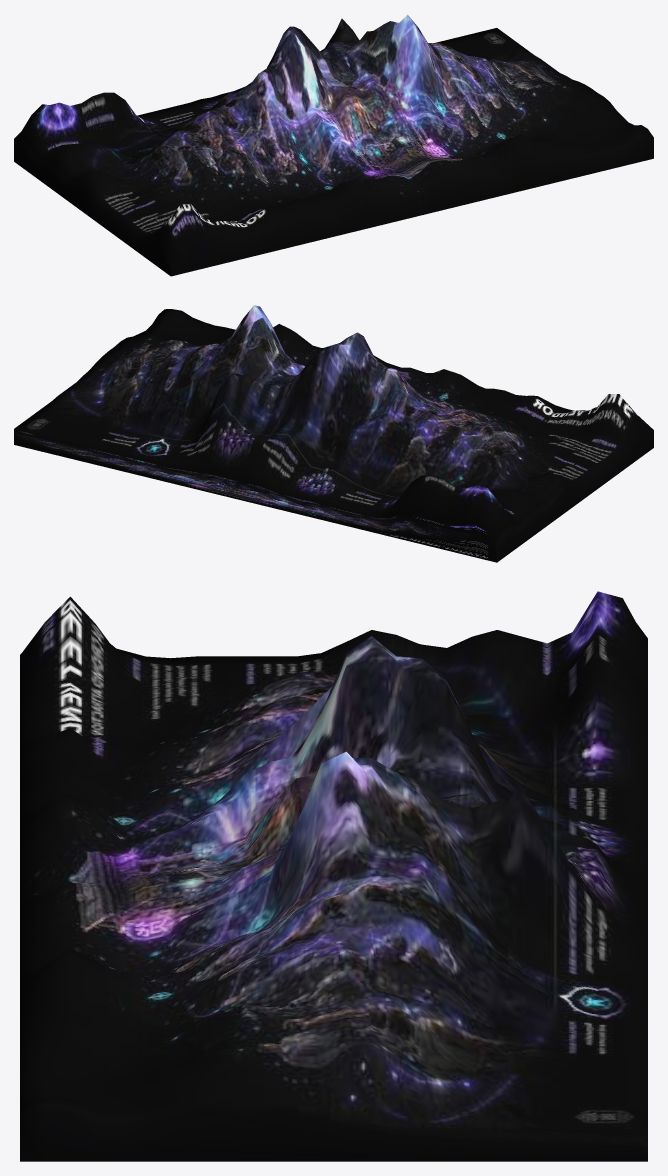
Rendered from CAREER_01_VFX_04_Crowd.glb.
3 views of the same model, one above another, from view 1: azimuth 30°, elevation 25°; view 2: azimuth 150°, elevation 25°; view 3: azimuth 270°, elevation 25° (orthographic). The views are drawn at different scales.
Visible parts, largest first — view 1: CAREER_01_VFX_04_Crowd; view 2: CAREER_01_VFX_04_Crowd; view 3: CAREER_01_VFX_04_Crowd.
Boxes of the visible parts, x1,y1,x2,y2 form: CAREER_01_VFX_04_Crowd: [14, 14, 653, 276]; CAREER_01_VFX_04_Crowd: [14, 305, 653, 562]; CAREER_01_VFX_04_Crowd: [20, 591, 647, 1161].
Bounding box in the file's own units: 2 × 0.51 × 1.13.
Materials: 1 (1 with a texture image).
